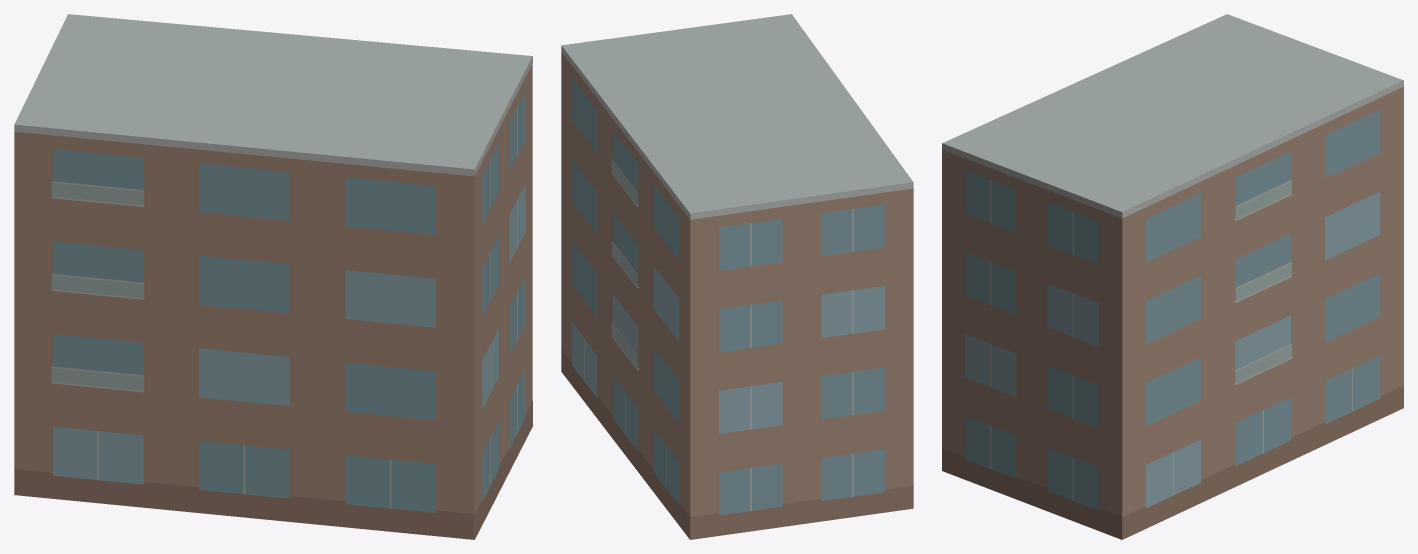
The model's file is survey-upis-32665394.glb.
The picture shows the model from 3 angles, left to right: view 1: azimuth 30°, elevation 25°; view 2: azimuth 150°, elevation 25°; view 3: azimuth 270°, elevation 25°; orthographic projection. The views are drawn at different scales.
Visible parts, largest first — view 1: survey-upis-32665394.tmp; view 2: survey-upis-32665394.tmp; view 3: survey-upis-32665394.tmp.
Part boxes in pixels (x1,y1,x2,y2): survey-upis-32665394.tmp: (14,14,532,539); survey-upis-32665394.tmp: (561,14,913,539); survey-upis-32665394.tmp: (942,14,1403,539).
Size of the model in its own units: 16.61 by 12.8 by 16.35.
